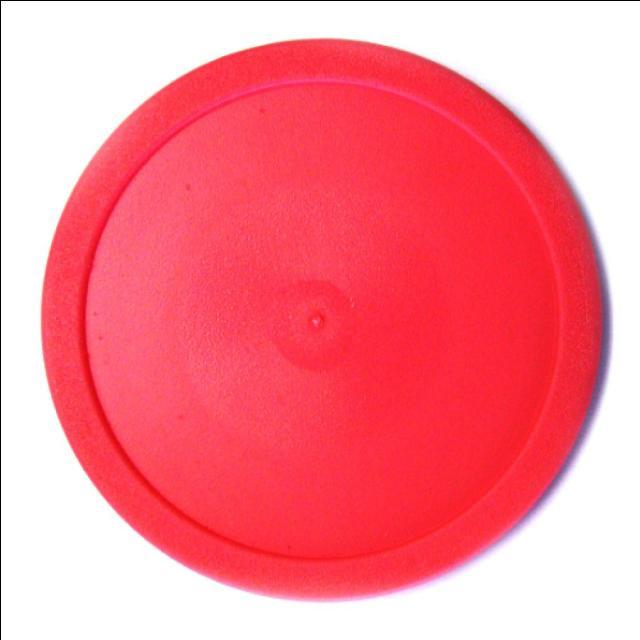chip: (39, 37, 609, 605)
